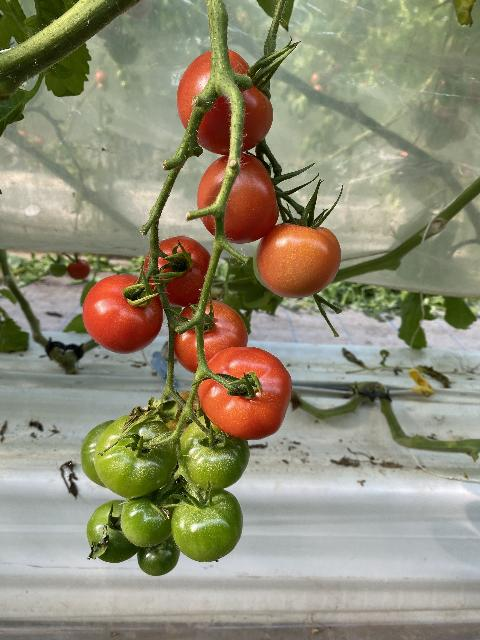l_fully_ripened: (177, 47, 273, 155), (197, 346, 292, 441), (197, 154, 279, 243), (83, 274, 164, 355), (171, 298, 249, 375), (142, 236, 214, 306)
l_green: (93, 413, 177, 498), (178, 416, 250, 491), (172, 489, 243, 563), (87, 499, 140, 563), (121, 489, 175, 548), (81, 419, 116, 489), (137, 533, 180, 576)
l_half_ripened: (256, 222, 342, 299), (162, 391, 206, 441)
